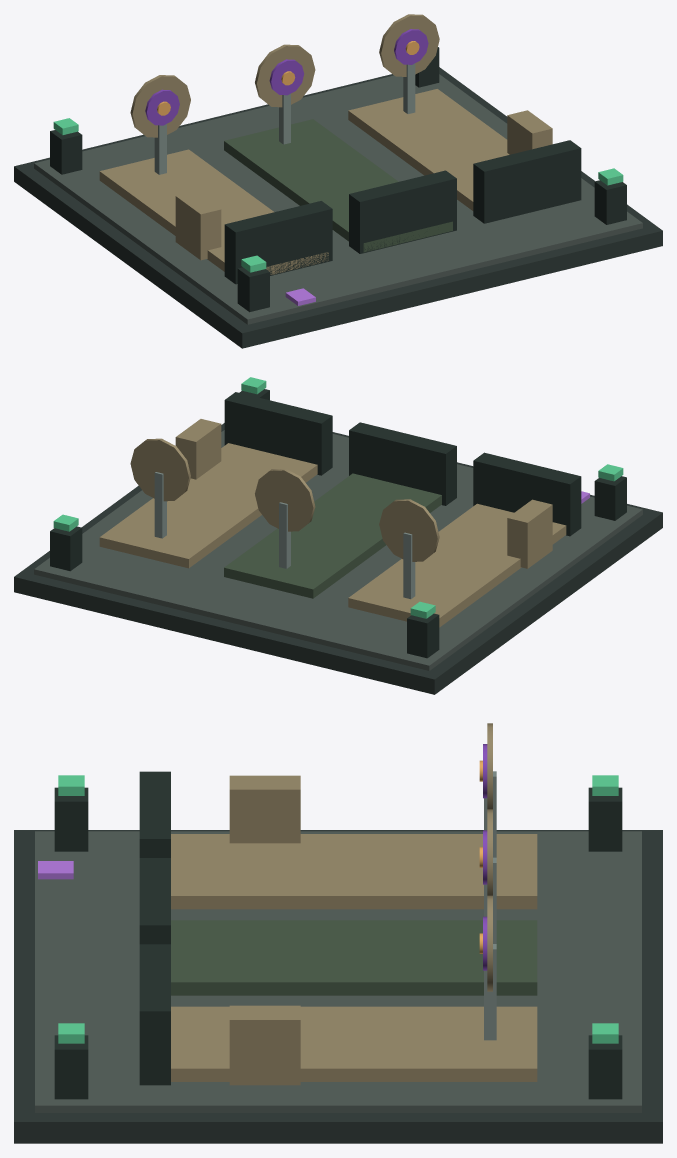
Rendered from ridgewatch_l01.glb.
3 renders of one model, top to bottom at view 1: azimuth 30°, elevation 25°; view 2: azimuth 150°, elevation 25°; view 3: azimuth 270°, elevation 25°, orthographic. The views are drawn at different scales.
Visible parts, largest first — view 1: ridgewatch_l01; view 2: ridgewatch_l01; view 3: ridgewatch_l01.
Part boxes in pixels (<box>): ridgewatch_l01: <box>14,14,662,348</box>; ridgewatch_l01: <box>14,377,662,694</box>; ridgewatch_l01: <box>14,723,662,1143</box>.
Size of the model in its own units: 6.6 by 1.94 by 6.2.
